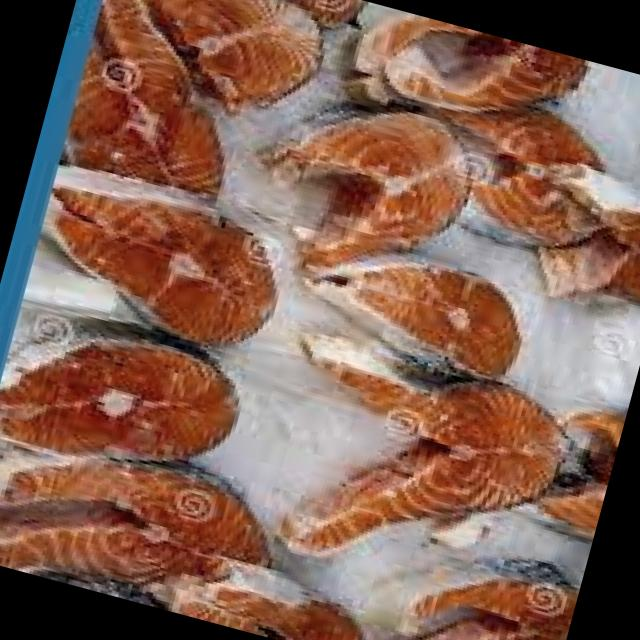Fish: (218, 312, 604, 631), (0, 401, 298, 635), (245, 60, 500, 308), (14, 152, 301, 365), (286, 208, 569, 400), (0, 294, 255, 497), (361, 8, 595, 166), (330, 507, 586, 640), (485, 136, 640, 341), (144, 0, 354, 142), (159, 535, 388, 640)
